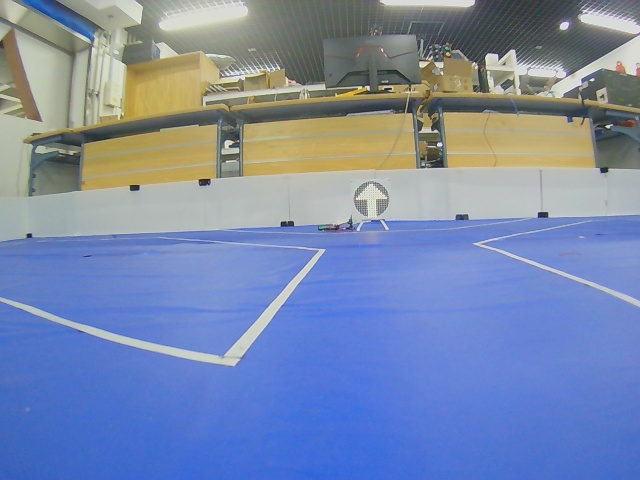straight_yellow: (354, 181, 389, 218)
